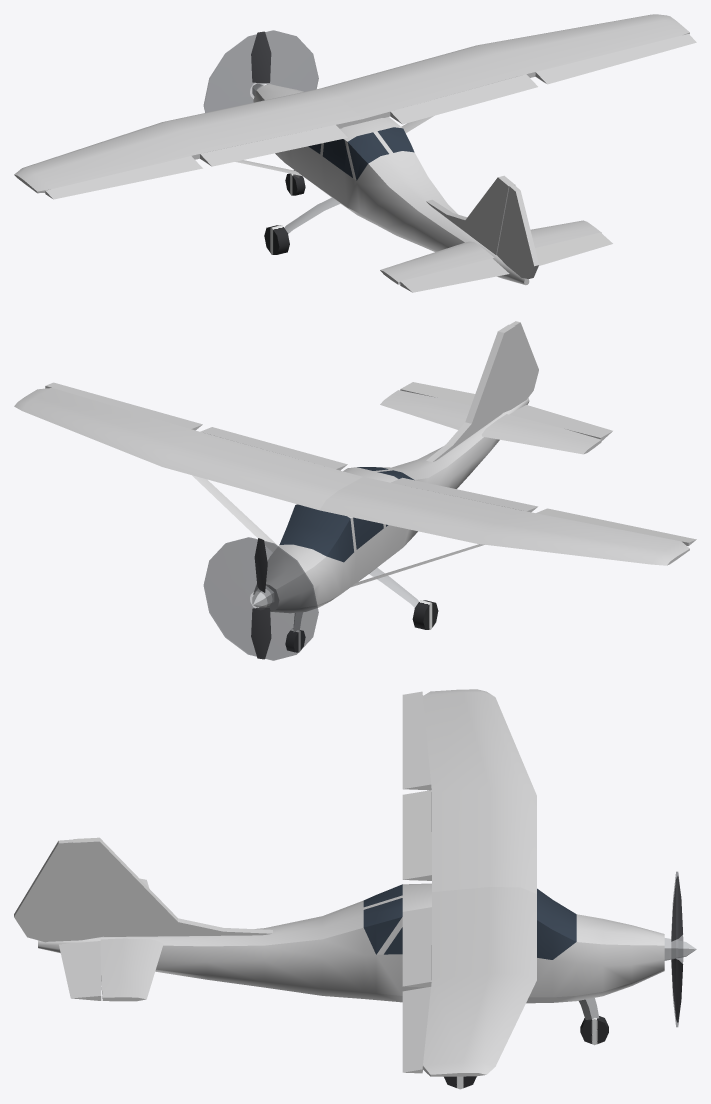
File: Cessna_172_LOD3.glb
3 views of the same model, one above another, from view 1: azimuth 30°, elevation 25°; view 2: azimuth 150°, elevation 25°; view 3: azimuth 270°, elevation 25° (orthographic). The views are drawn at different scales.
Visible parts, largest first — view 1: Fuselage, Wing_Right, Wing_Left, Propeller_Disc, Elevator, Rudder, VerticalTail, Flap_Right, Flap_Left, Aileron_Right, HorizontalTail_Left, Aileron_Left (+4 smaller); view 2: Wing_Right, Fuselage, Wing_Left, Propeller_Disc, VerticalTail, HorizontalTail_Left, Elevator, HorizontalTail_Right, Rudder, Propeller, Flap_Right, Aileron_Right (+4 smaller); view 3: Fuselage, Wing_Left, Wing_Right, VerticalTail, Rudder, HorizontalTail_Right, Flap_Left, Aileron_Left, Flap_Right, Elevator, Aileron_Right, Propeller_Disc (+2 smaller).
Boxes of the visible parts, <box> form: Fuselage: <box>253,84,529,285</box>; Wing_Right: <box>320,14,689,122</box>; Wing_Left: <box>14,88,362,193</box>; Propeller_Disc: <box>203,30,318,112</box>; Elevator: <box>400,232,612,292</box>; Rudder: <box>497,185,538,278</box>; VerticalTail: <box>426,175,515,255</box>; Flap_Right: <box>390,74,537,124</box>; Flap_Left: <box>200,125,347,166</box>; Aileron_Right: <box>535,34,696,84</box>; HorizontalTail_Left: <box>380,241,494,284</box>; Aileron_Left: <box>45,156,202,199</box>; Wing_Right: <box>14,388,362,510</box>; Fuselage: <box>253,397,529,613</box>; Wing_Left: <box>320,477,689,565</box>; Propeller_Disc: <box>203,537,318,660</box>; VerticalTail: <box>426,324,515,462</box>; HorizontalTail_Left: <box>481,414,601,454</box>; Elevator: <box>400,382,612,440</box>; HorizontalTail_Right: <box>380,390,470,429</box>; Rudder: <box>502,321,538,412</box>; Propeller: <box>251,538,271,659</box>; Flap_Right: <box>200,427,347,470</box>; Aileron_Right: <box>45,382,202,430</box>; Fuselage: <box>38,883,664,1003</box>; Wing_Left: <box>423,689,536,893</box>; Wing_Right: <box>423,887,536,1076</box>; VerticalTail: <box>73,837,272,936</box>; Rudder: <box>14,839,103,942</box>; HorizontalTail_Right: <box>100,938,163,1001</box>; Flap_Left: <box>402,790,431,880</box>; Aileron_Left: <box>402,691,431,790</box>; Flap_Right: <box>402,907,431,987</box>; Elevator: <box>59,941,101,1000</box>; Aileron_Right: <box>402,987,430,1073</box>; Propeller_Disc: <box>671,871,683,1027</box>.
Size of the model in its own units: 11 by 2.72 by 8.28.
6 materials, 1 textured.
